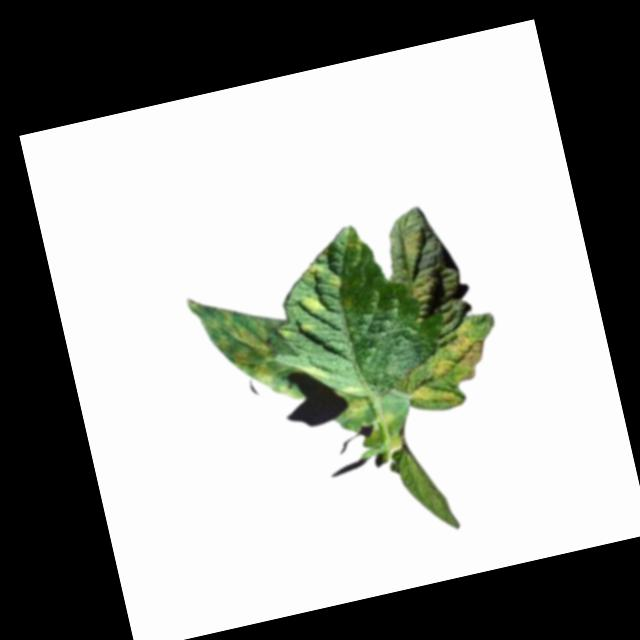Leaf_Mold: (185, 283, 300, 417), (399, 316, 496, 415), (401, 264, 462, 312), (391, 224, 429, 263), (337, 390, 373, 424), (295, 291, 325, 319)
